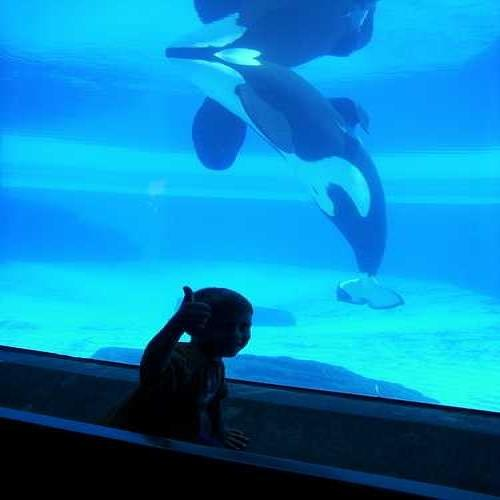killer_whale-endangered: (153, 33, 430, 316)
